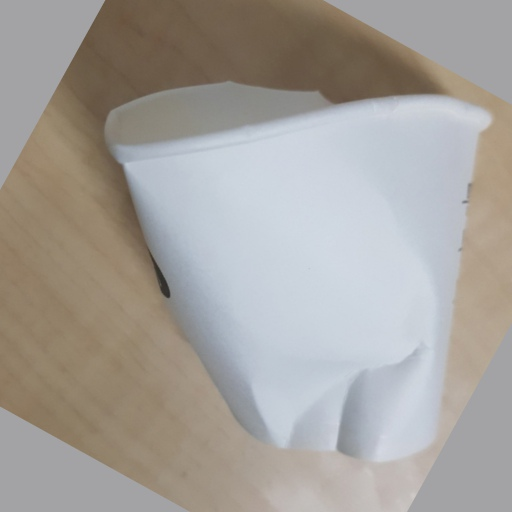Paper_1: (99, 80, 492, 462)
